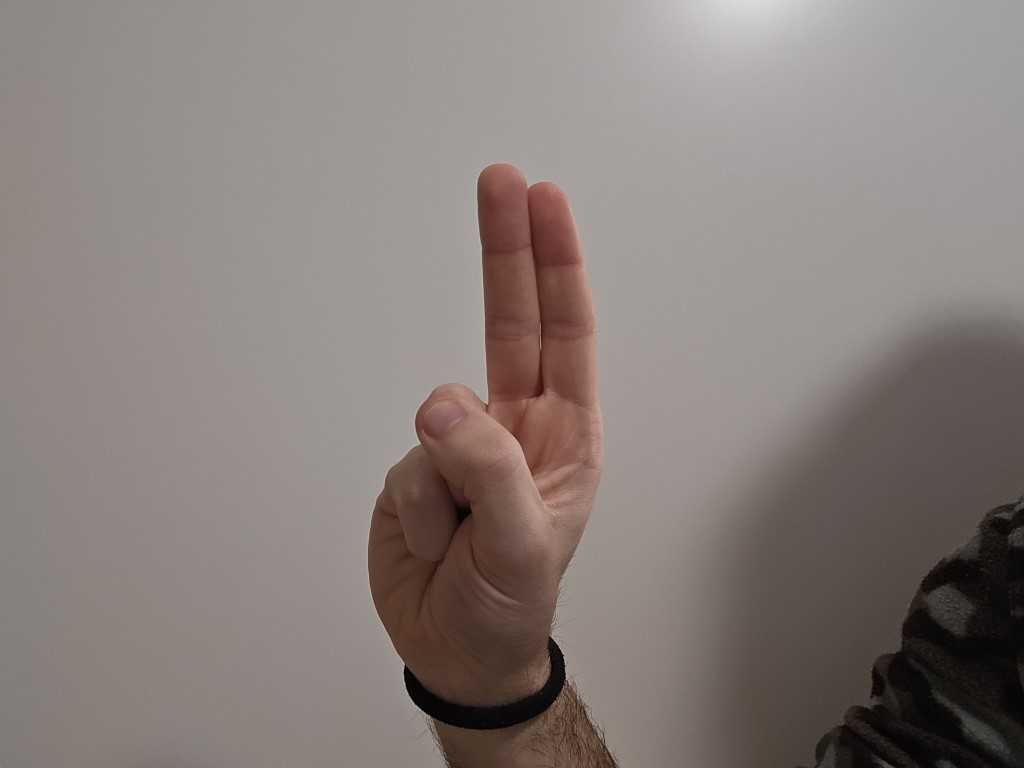u: (307, 149, 640, 677)
